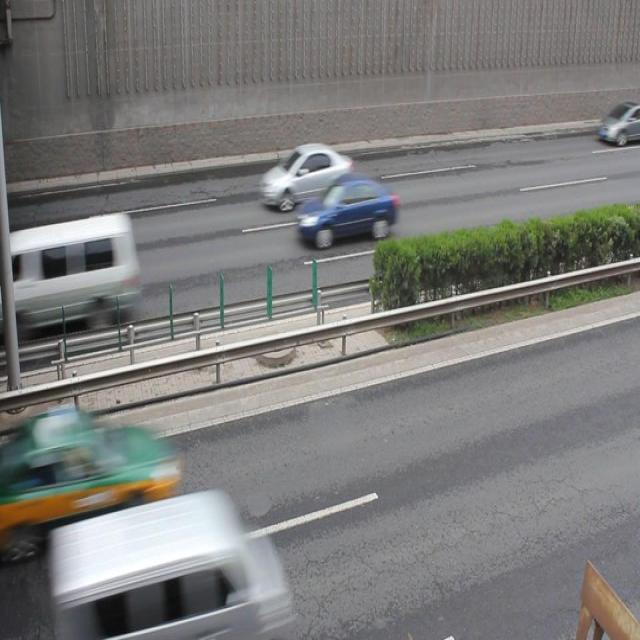car: (30, 403, 181, 534), (295, 172, 398, 248), (260, 141, 354, 210), (594, 100, 640, 146)
truck: (72, 484, 280, 640), (13, 213, 139, 330)
